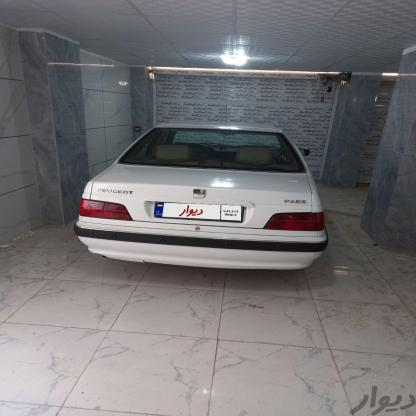Car: (75, 118, 336, 283)
